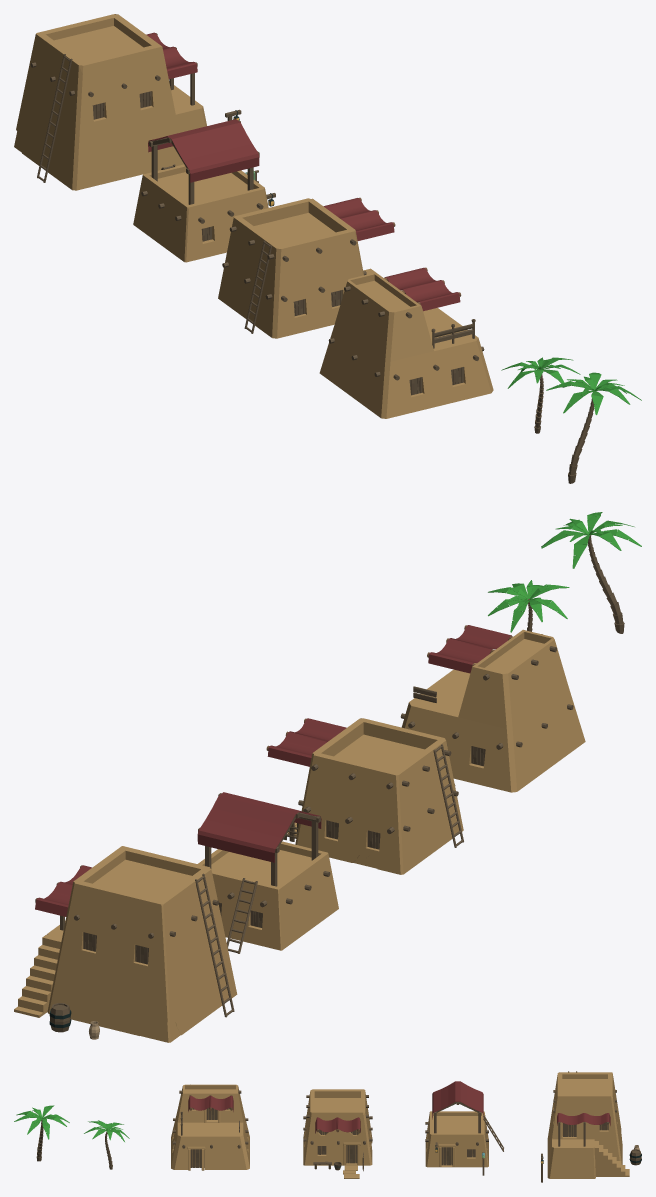
The model's file is Desert village.fbx.
3 views of the same model, one above another, from view 1: azimuth 30°, elevation 25°; view 2: azimuth 150°, elevation 25°; view 3: azimuth 270°, elevation 25° (orthographic). The views are drawn at different scales.
Visible parts, largest first — view 1: House_4_Base, House_1_Base, House_2_Base, House_3_Base, Tent_Towel, House_1_Towel_Big_Roof, House_2_Towel_Big_Roof, House_4_Stairs_to_Roof, House_4_Towel_Big_Roof, Tent_Base; view 2: House_4_Base, House_2_Base, House_1_Base, House_3_Base, Tent_Towel, House_4_Stair_Rock, House_1_Towel_Big_Roof, House_2_Towel_Big_Roof, House_4_Stairs_to_Roof, House_4_Towel_Big_Roof, Tent_Base, House_2_Stairs_to_Roof (+1 smaller); view 3: House_4_Base, House_1_Base, House_2_Base, House_3_Base, Tent_Towel, House_4_Stair_Rock, House_2_Towel_Big_Roof, House_1_Towel_Big_Roof, House_4_Towel_Big_Roof, House_1_Door, Tent_Base, House_2_Door (+5 smaller).
Boxes of the visible parts, x1,y1,x2,y2 form: House_4_Base: [14, 14, 206, 190]; House_1_Base: [319, 272, 493, 418]; House_2_Base: [218, 198, 363, 338]; House_3_Base: [133, 164, 268, 262]; Tent_Towel: [148, 119, 259, 182]; House_1_Towel_Big_Roof: [385, 267, 460, 311]; House_2_Towel_Big_Roof: [323, 198, 394, 240]; House_4_Stairs_to_Roof: [37, 54, 72, 182]; House_4_Towel_Big_Roof: [146, 32, 197, 79]; Tent_Base: [149, 120, 259, 204]; House_4_Base: [47, 846, 237, 1042]; House_2_Base: [295, 718, 463, 874]; House_1_Base: [401, 629, 585, 792]; House_3_Base: [197, 841, 338, 950]; Tent_Towel: [197, 792, 321, 862]; House_4_Stair_Rock: [14, 934, 61, 1017]; House_1_Towel_Big_Roof: [428, 625, 511, 673]; House_2_Towel_Big_Roof: [267, 718, 346, 766]; House_4_Stairs_to_Roof: [195, 873, 234, 1017]; House_4_Towel_Big_Roof: [35, 865, 91, 916]; Tent_Base: [198, 793, 320, 886]; House_2_Stairs_to_Roof: [433, 744, 463, 847]; House_4_Base: [547, 1072, 622, 1178]; House_1_Base: [171, 1084, 249, 1169]; House_2_Base: [303, 1089, 372, 1165]; House_3_Base: [425, 1111, 488, 1167]; Tent_Towel: [432, 1081, 483, 1119]; House_4_Stair_Rock: [594, 1141, 629, 1176]; House_2_Towel_Big_Roof: [315, 1117, 360, 1133]; House_1_Towel_Big_Roof: [188, 1096, 233, 1111]; House_4_Towel_Big_Roof: [557, 1113, 610, 1125]; House_1_Door: [190, 1149, 204, 1167]; Tent_Base: [434, 1102, 481, 1133]; House_2_Door: [346, 1145, 357, 1163].
Size of the model in its own units: 1116 by 721 by 5726.
